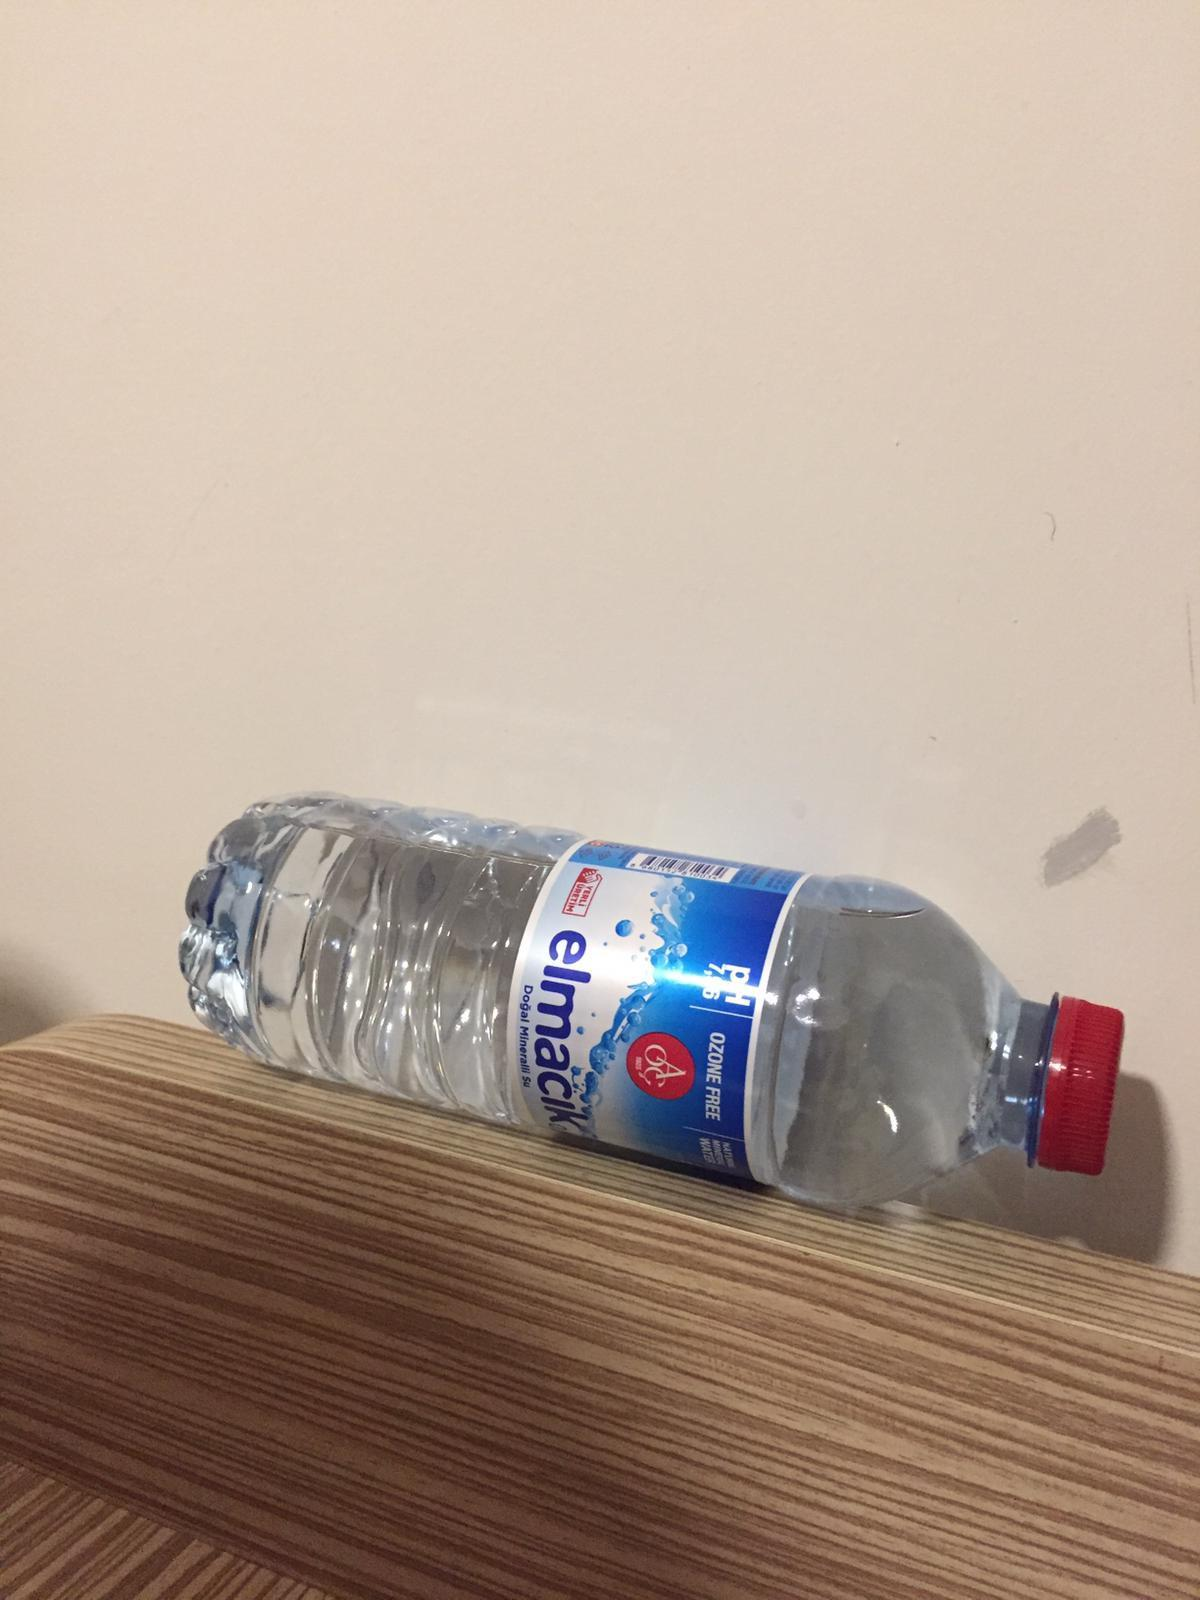bottle: (184, 784, 1124, 1217)
